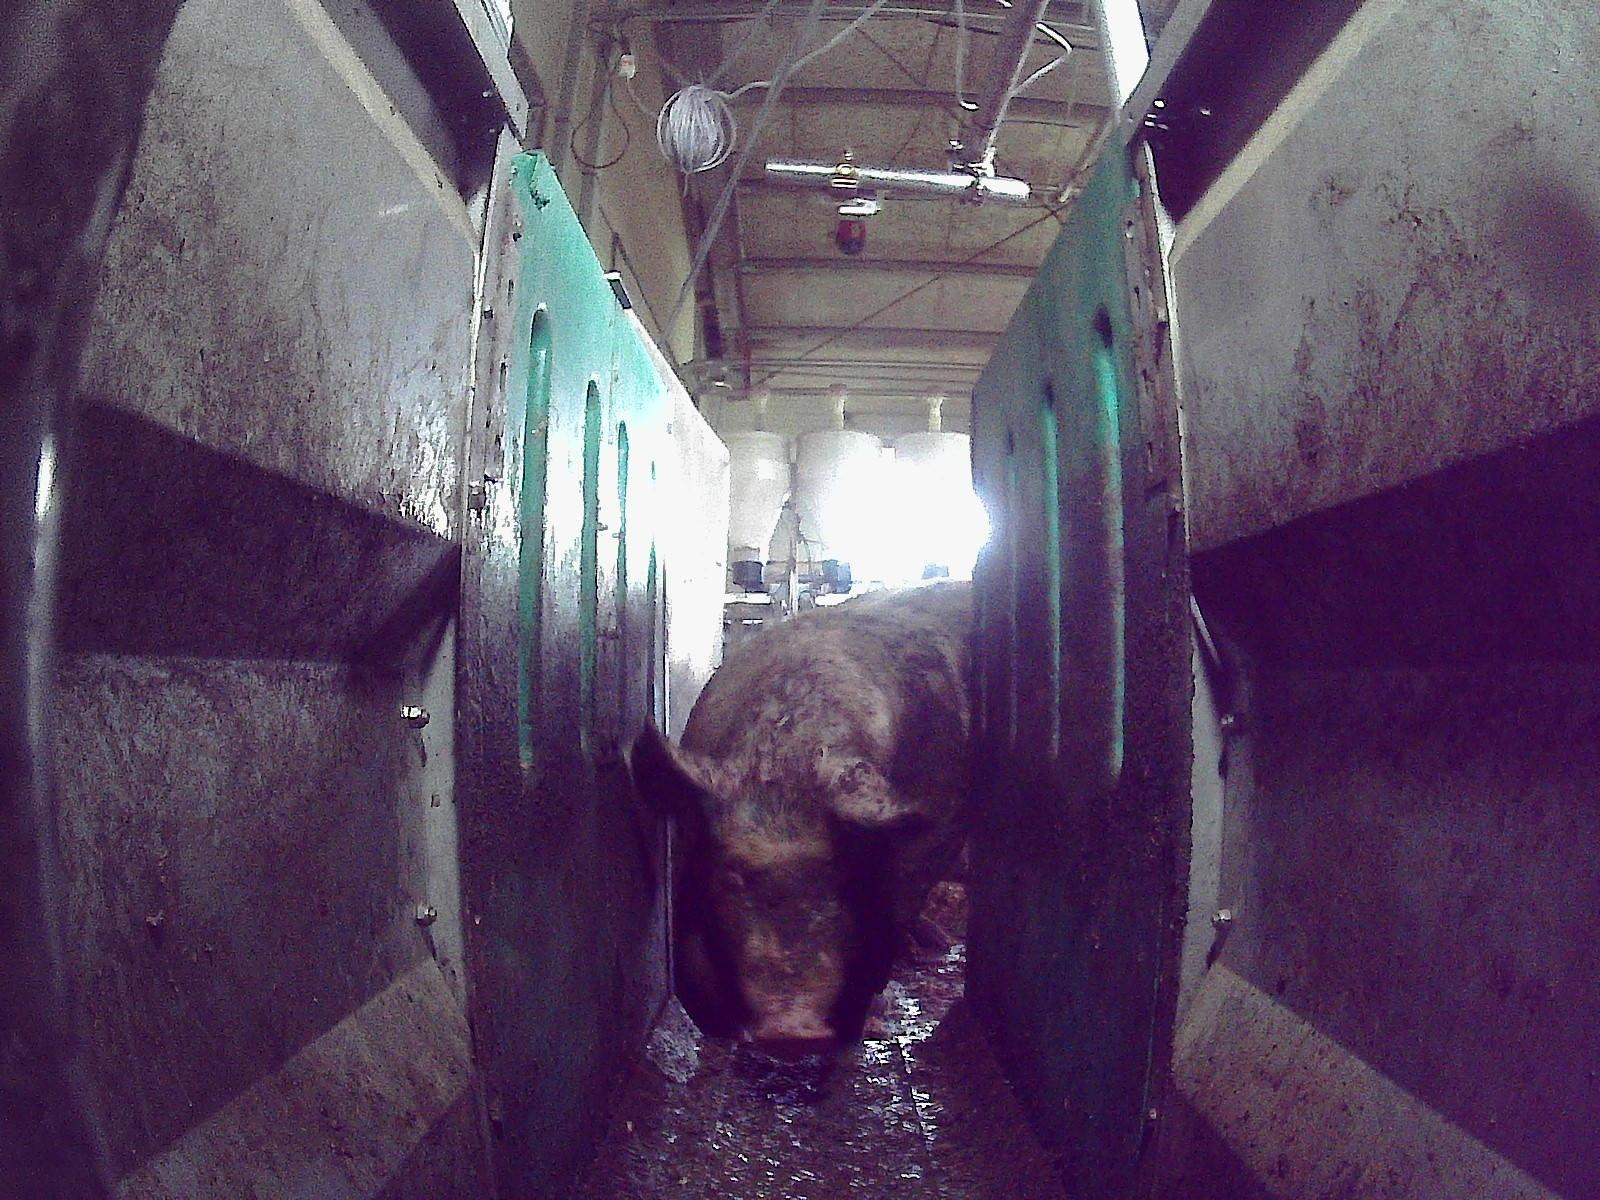Face: (695, 783, 868, 1060)
